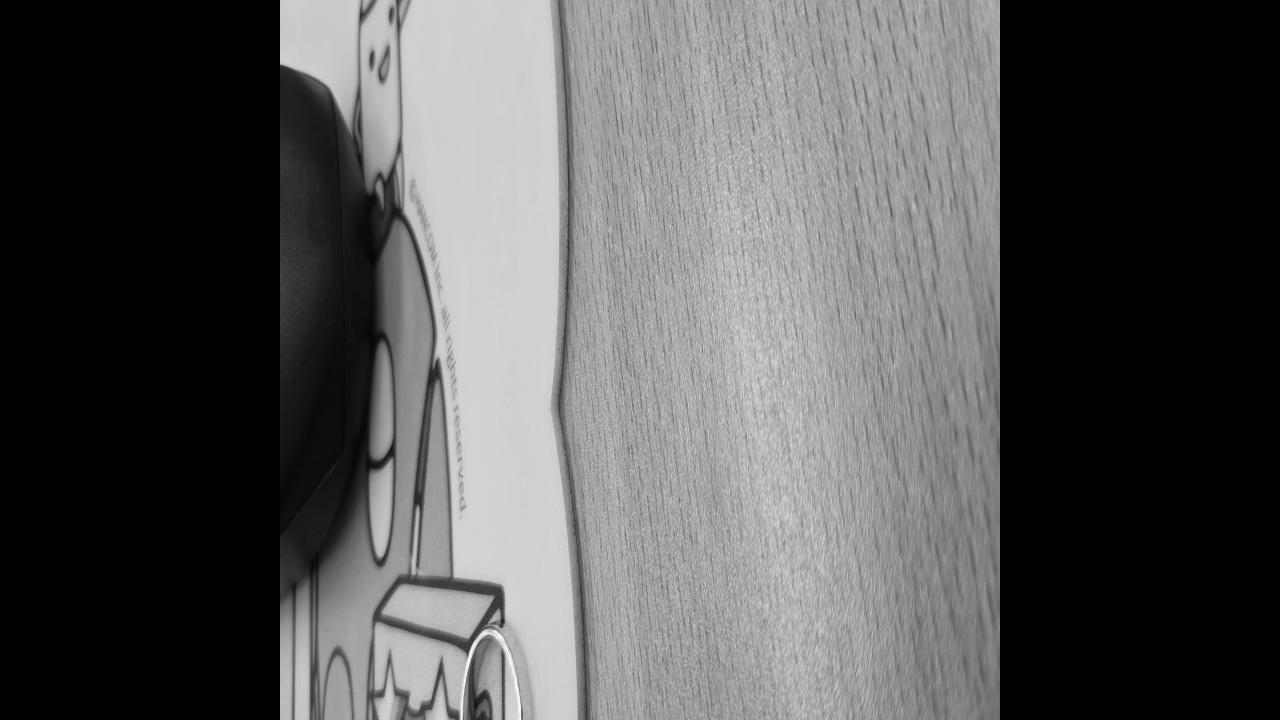ring: (458, 619, 536, 720)
